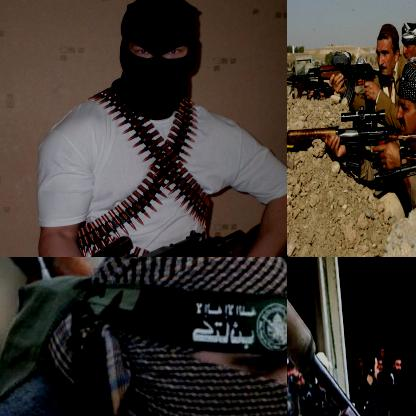rifle: (287, 262, 415, 415), (287, 106, 415, 178), (292, 60, 392, 106), (287, 70, 328, 106)
